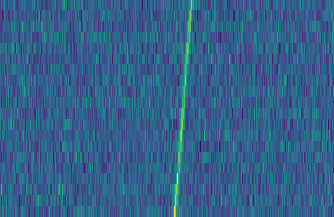signal: (169, 0, 196, 217)
